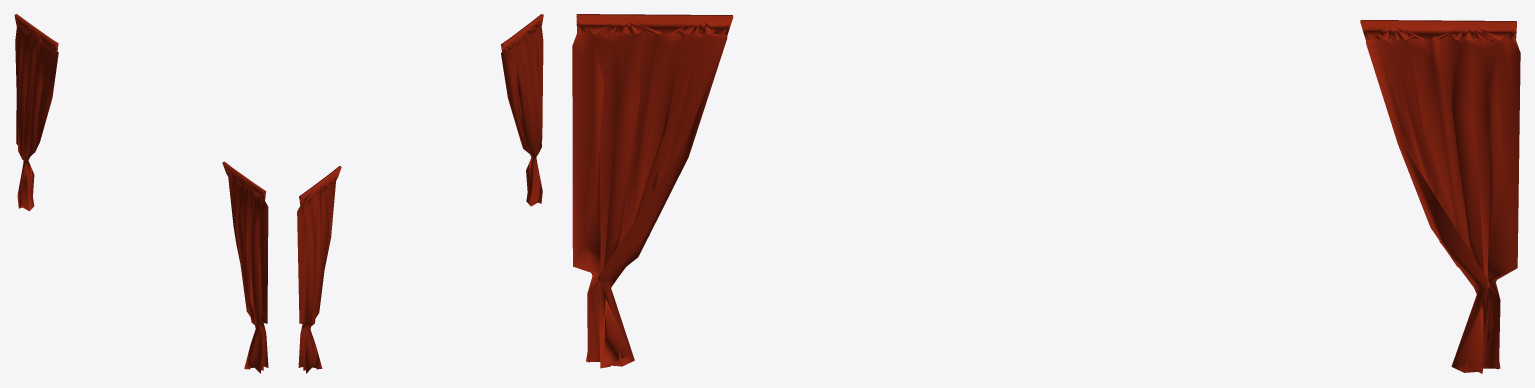
Rendered from Curtain3.fbx.
The picture shows the model from 3 angles, left to right: view 1: azimuth 30°, elevation 25°; view 2: azimuth 150°, elevation 25°; view 3: azimuth 270°, elevation 25°; orthographic projection. The views are drawn at different scales.
Parts seen in each view (by area): view 1: Cloth2; view 2: Cloth2; view 3: Cloth2.
Boxes of the visible parts, x1=… form: Cloth2: x1=14, y1=14, x2=268, y2=373; Cloth2: x1=297, y1=14, x2=543, y2=373; Cloth2: x1=572, y1=14, x2=1520, y2=373.
Size of the model in its own units: 0.3282 by 7.44 by 3.08.
